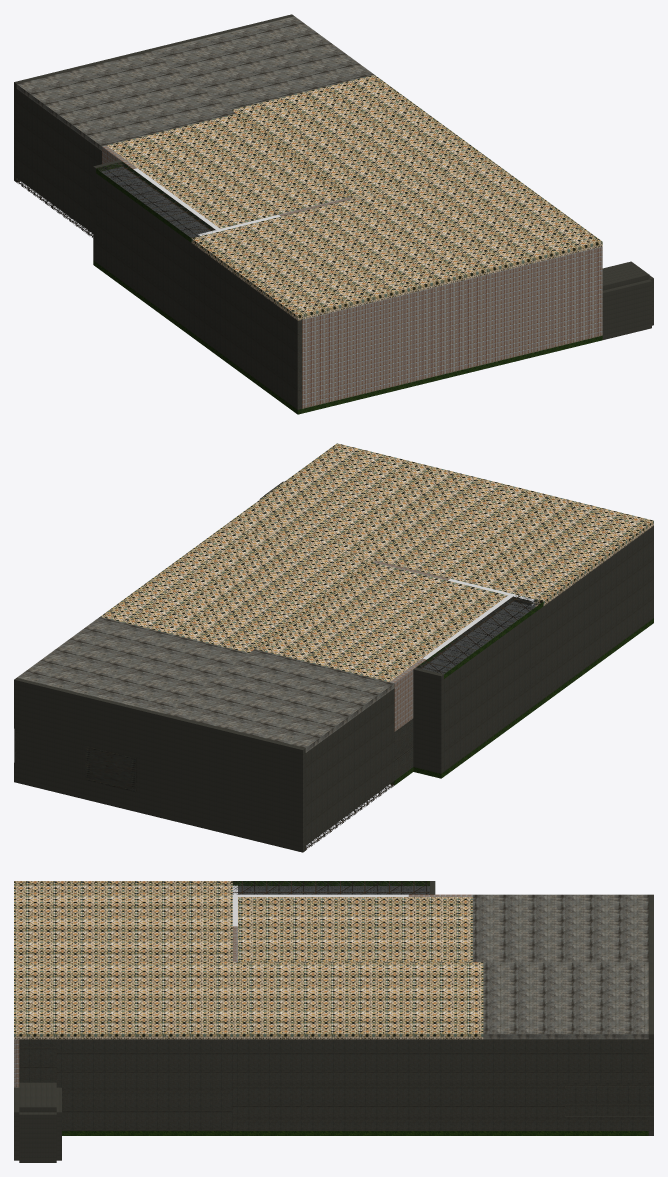
File: DeimosCompounds.fbx
The picture shows the model from 3 angles, top to bottom: view 1: azimuth 30°, elevation 25°; view 2: azimuth 150°, elevation 25°; view 3: azimuth 270°, elevation 25°; orthographic projection. The views are drawn at different scales.
Parts seen in each view (by area): view 1: Empty; view 2: Empty; view 3: Empty.
Part boxes in pixels (x1,y1,x2,y2): Empty: (14,14,653,414); Empty: (14,443,653,852); Empty: (14,881,653,1162).
Bounding box in the file's own units: 76.74 × 20.14 × 115.
